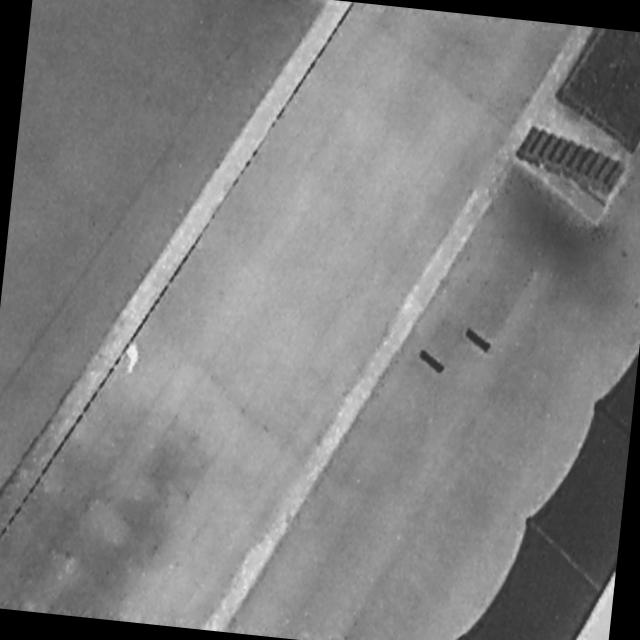person: (122, 341, 141, 377)
